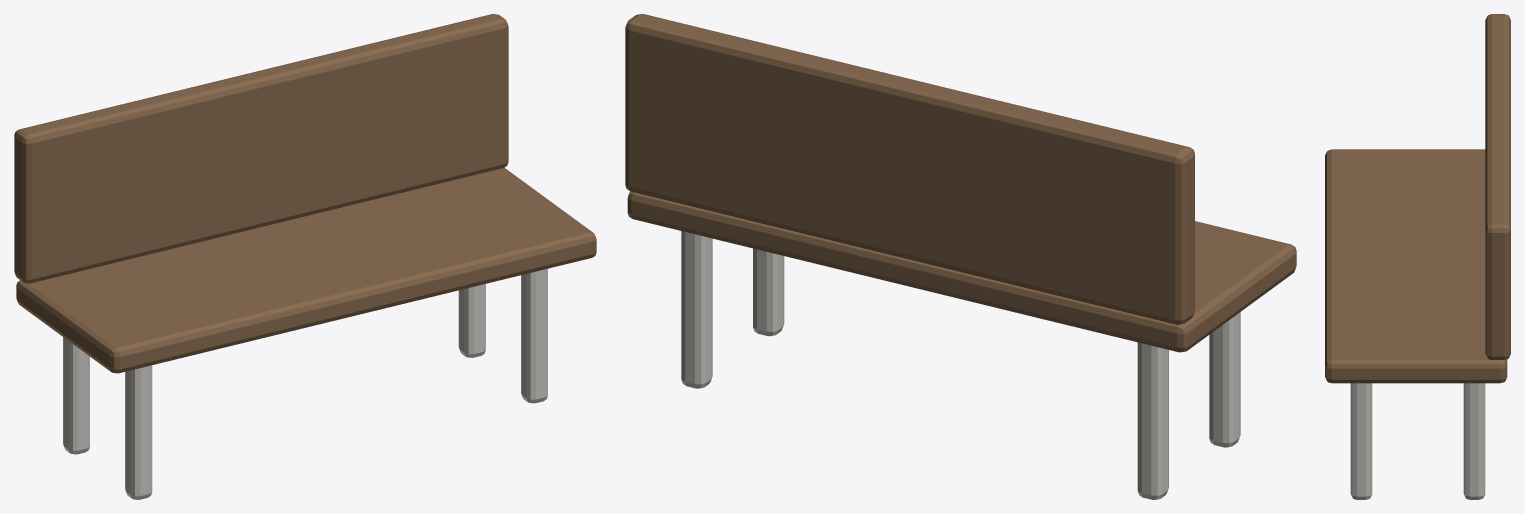
Rendered from SM_Kit_Garden_Bench.glb.
The picture shows the model from 3 angles, left to right: view 1: azimuth 30°, elevation 25°; view 2: azimuth 150°, elevation 25°; view 3: azimuth 270°, elevation 25°; orthographic projection. The views are drawn at different scales.
Parts seen in each view (by area): view 1: SM_Kit_Garden_Bench; view 2: SM_Kit_Garden_Bench; view 3: SM_Kit_Garden_Bench.
Part boxes in pixels (x1,y1,x2,y2): SM_Kit_Garden_Bench: (14, 14, 596, 499); SM_Kit_Garden_Bench: (625, 14, 1296, 499); SM_Kit_Garden_Bench: (1325, 14, 1510, 499).
Size of the model in its own units: 1.4 by 0.88 by 0.51.
